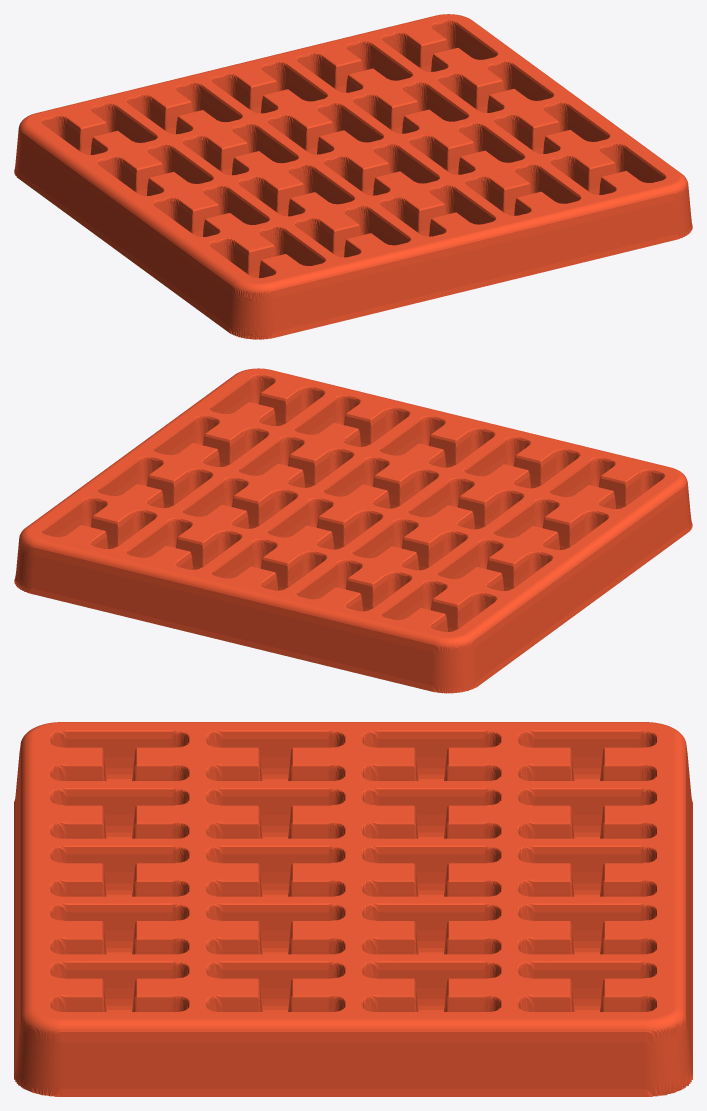
File: mold.glb
The picture shows the model from 3 angles, top to bottom: view 1: azimuth 30°, elevation 25°; view 2: azimuth 150°, elevation 25°; view 3: azimuth 270°, elevation 25°; orthographic projection. The views are drawn at different scales.
Visible parts, largest first — view 1: geometry_0; view 2: geometry_0; view 3: geometry_0.
Part boxes in pixels (box(x1,y1,x2,y2)): geometry_0: box(14, 14, 692, 339); geometry_0: box(14, 368, 692, 693); geometry_0: box(14, 722, 692, 1096).
Size of the model in its own units: 0.1389 by 0.0145 by 0.1278.
